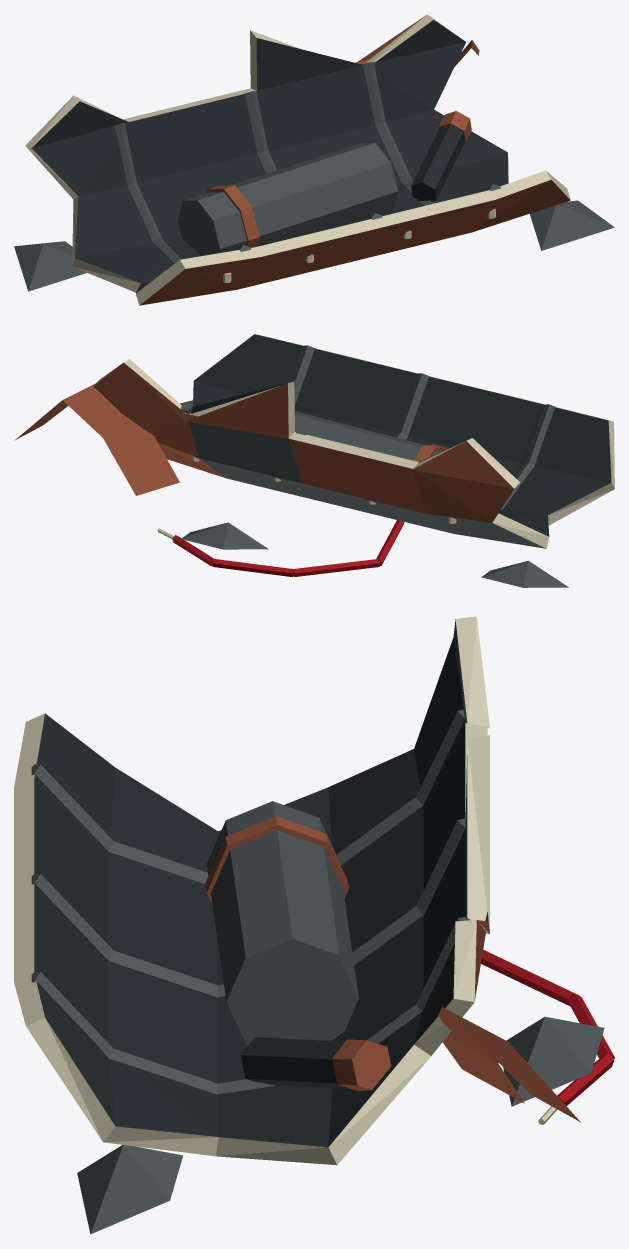
The model's file is wreck_debris.fbx.
3 views of the same model, one above another, from view 1: azimuth 30°, elevation 25°; view 2: azimuth 150°, elevation 25°; view 3: azimuth 270°, elevation 25° (orthographic). The views are drawn at different scales.
Parts seen in each view (by area): view 1: wreck_debris; view 2: wreck_debris; view 3: wreck_debris.
Part boxes in pixels (<box>): wreck_debris: <box>14,14,614,305</box>; wreck_debris: <box>15,334,614,587</box>; wreck_debris: <box>14,616,614,1234</box>.
Bounding box in the file's own units: 3.04 × 0.986 × 1.81.
